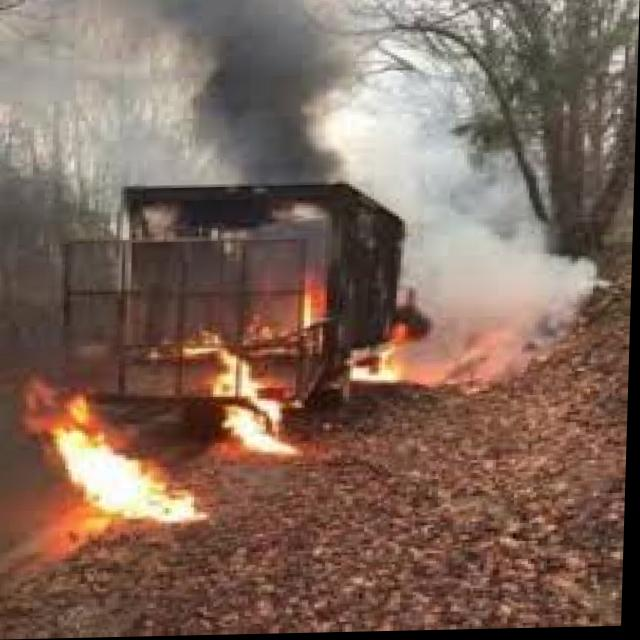fire: (9, 375, 216, 548), (176, 330, 309, 465), (336, 309, 442, 401), (277, 273, 355, 328)
